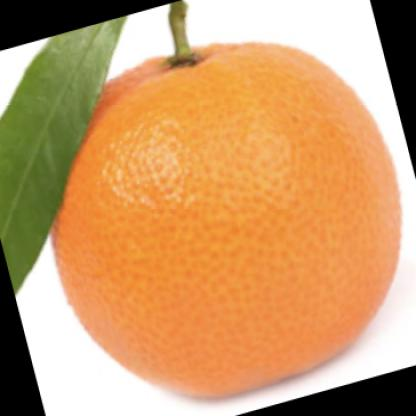orange: (28, 36, 401, 399)
